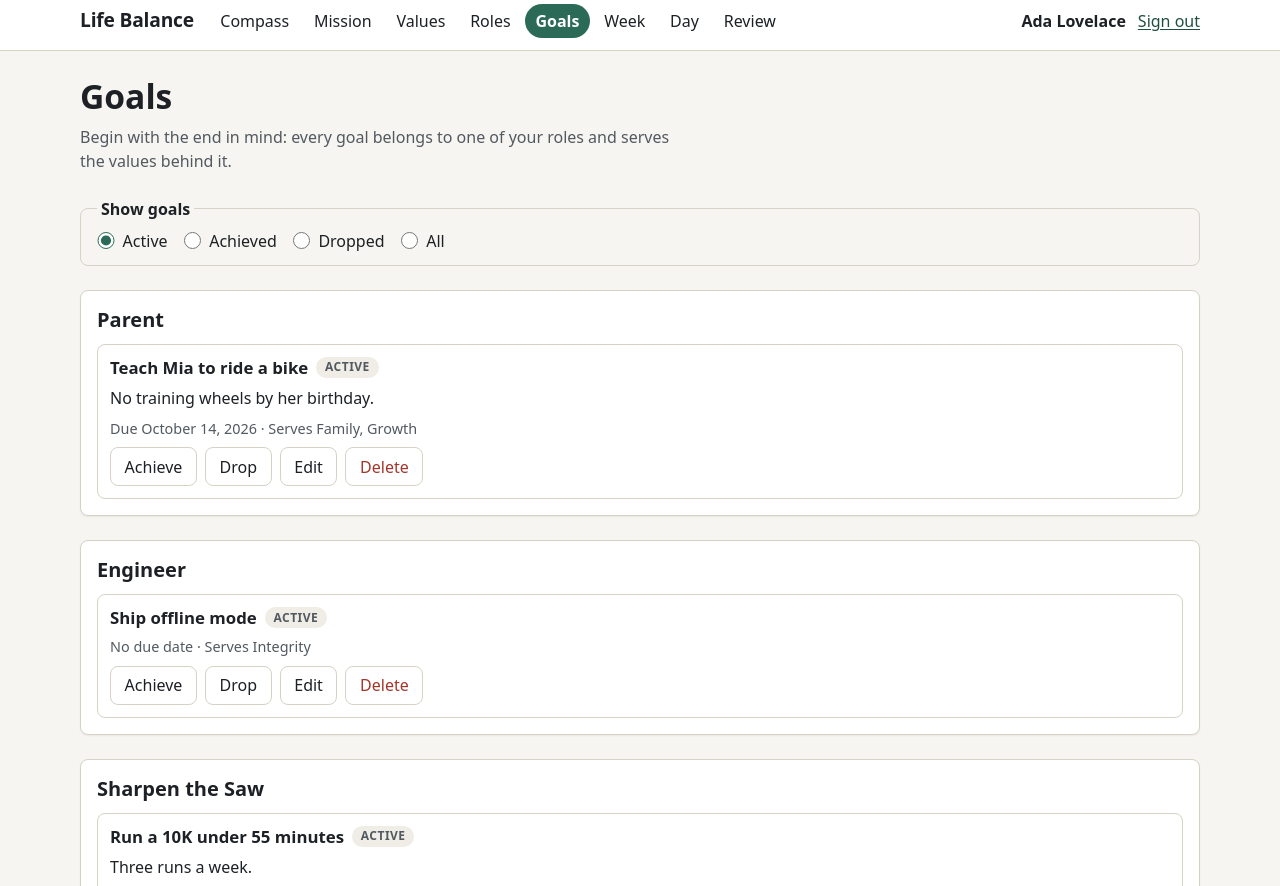
Scenario: edits a goal in place
The image size is (1280, 886).
Click the button named "Edit Teach Mia to ride a bike" at (309, 467), box [280, 447, 338, 486]
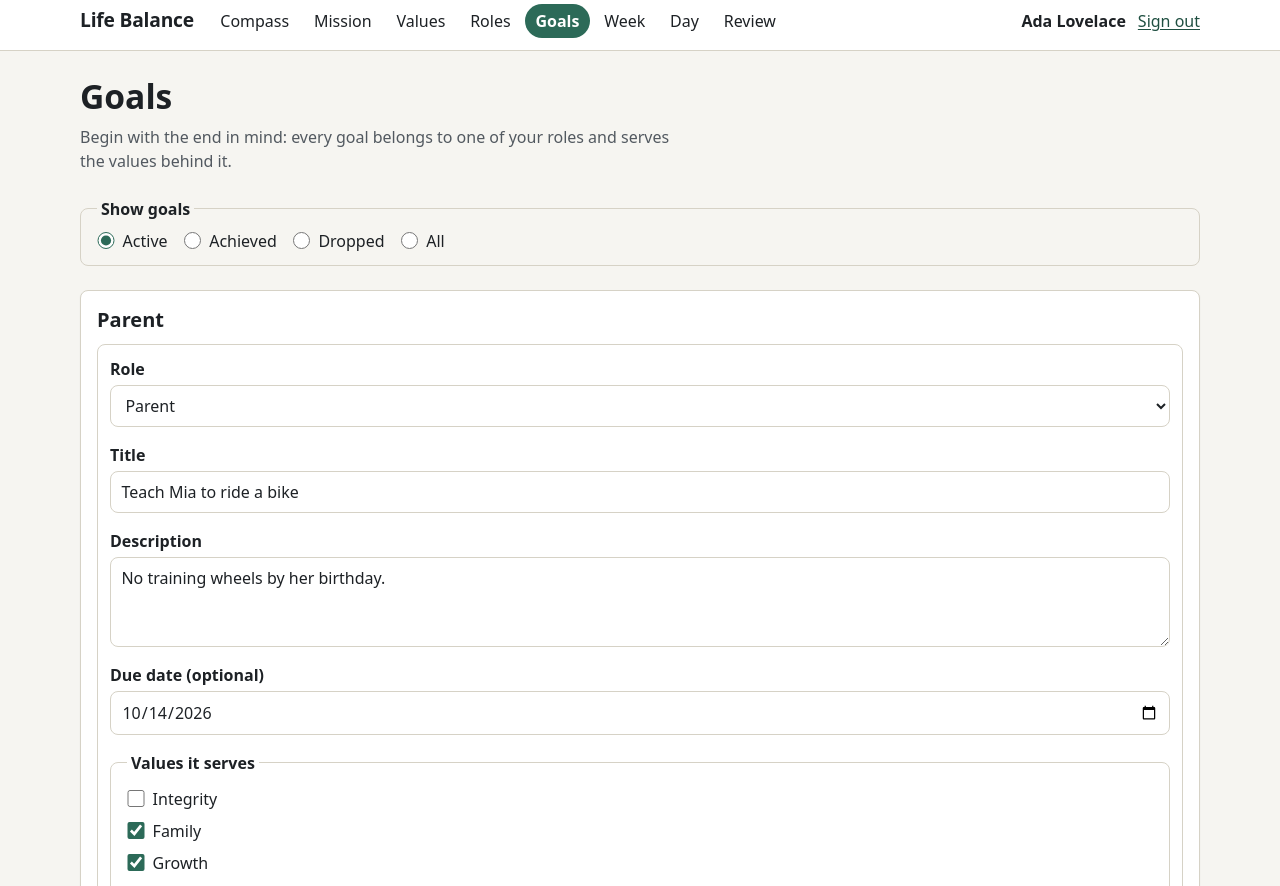
Now the date field labelled "Due date (optional)" holds "2026-10-14", box [110, 691, 1170, 735]
Now the checkbox labelled "Family" is checked, box [127, 822, 145, 839]
Replace the text in the field labelled "Title" with "Teach Mia and Leo to ride" at (640, 492), box [110, 471, 1170, 513]
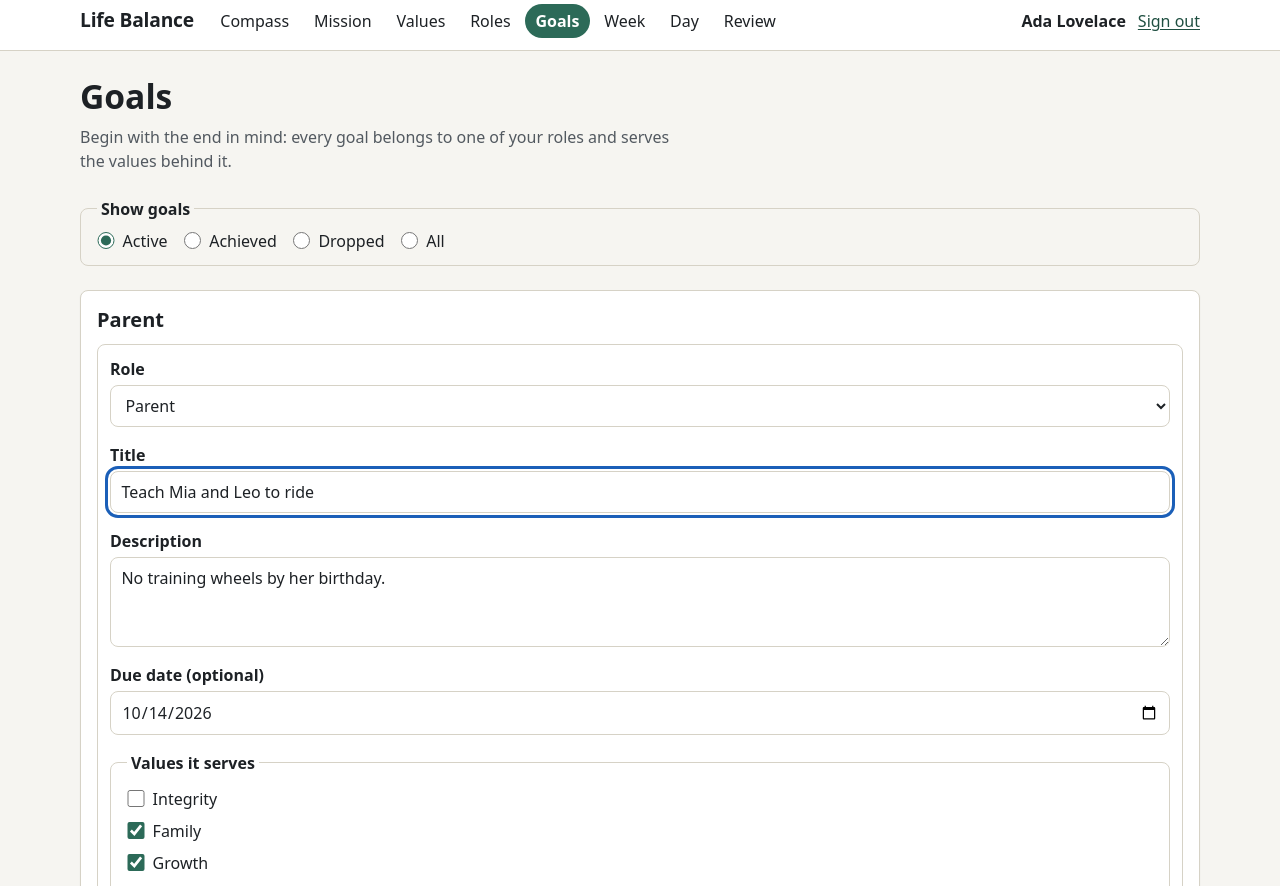
Click the checkbox labelled "Family" at (136, 831), box [127, 822, 145, 839]
(page scrolled)
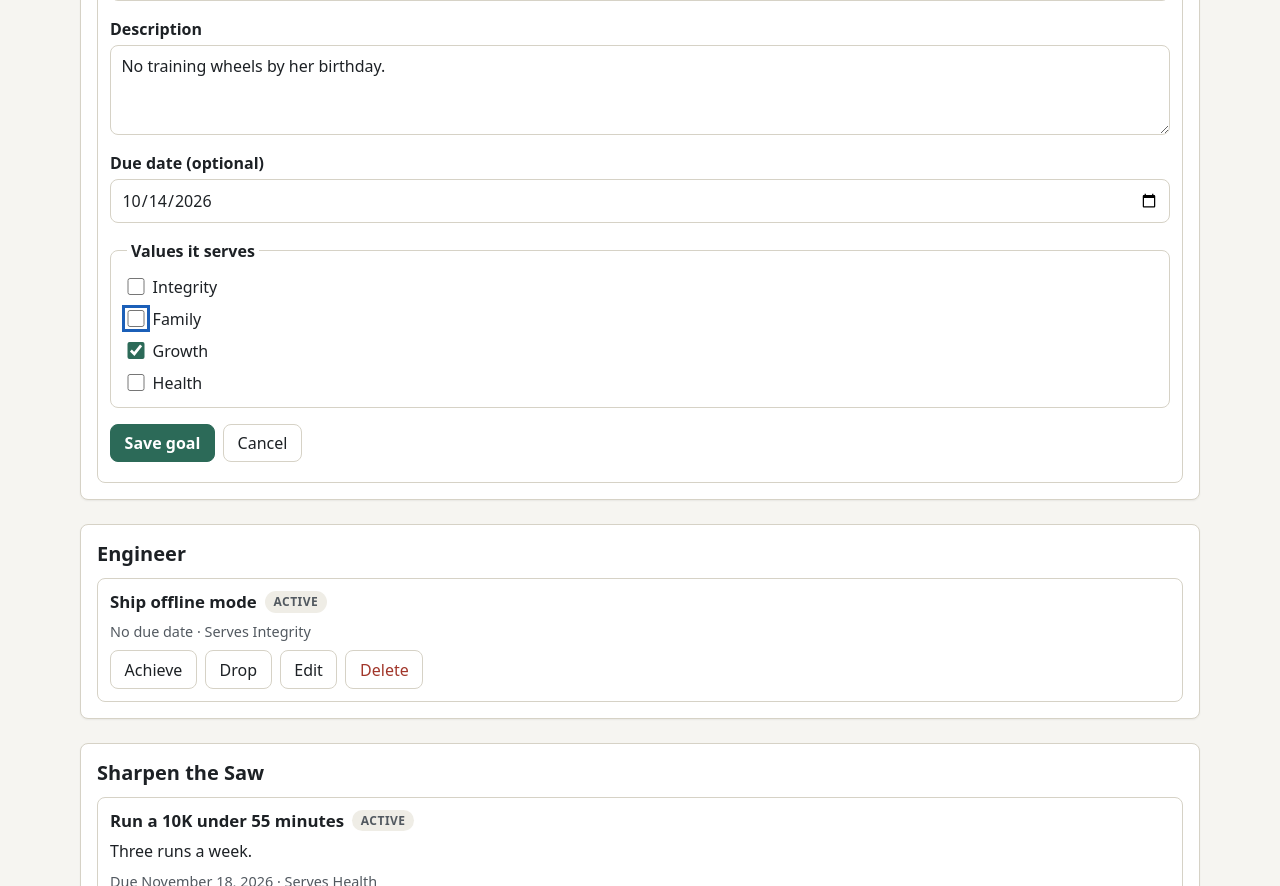
Click the button "Save goal" at (162, 443), box [110, 424, 215, 462]
(page scrolled)
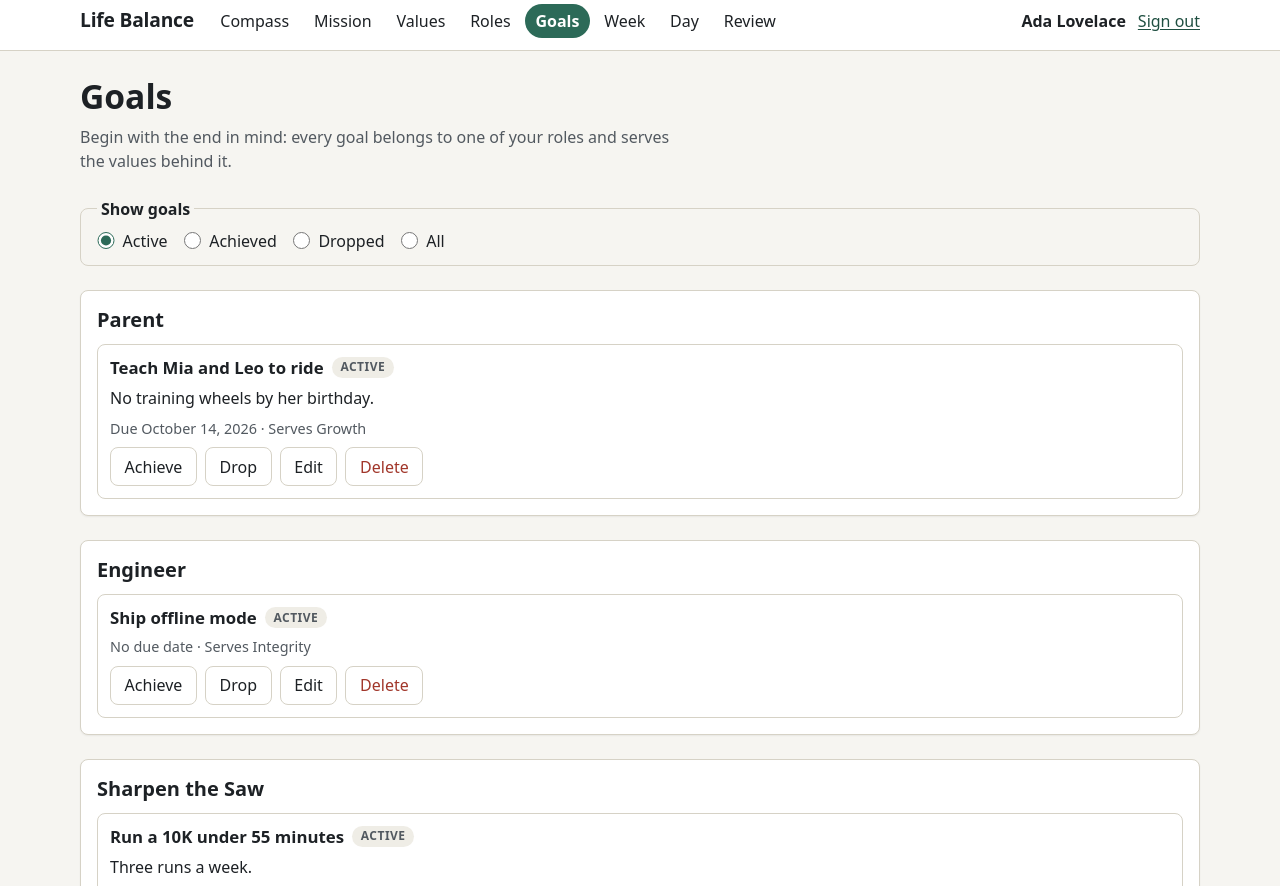
Now the text "Due October 14, 2026 · Serves Growth" is shown, box [110, 419, 366, 438]
